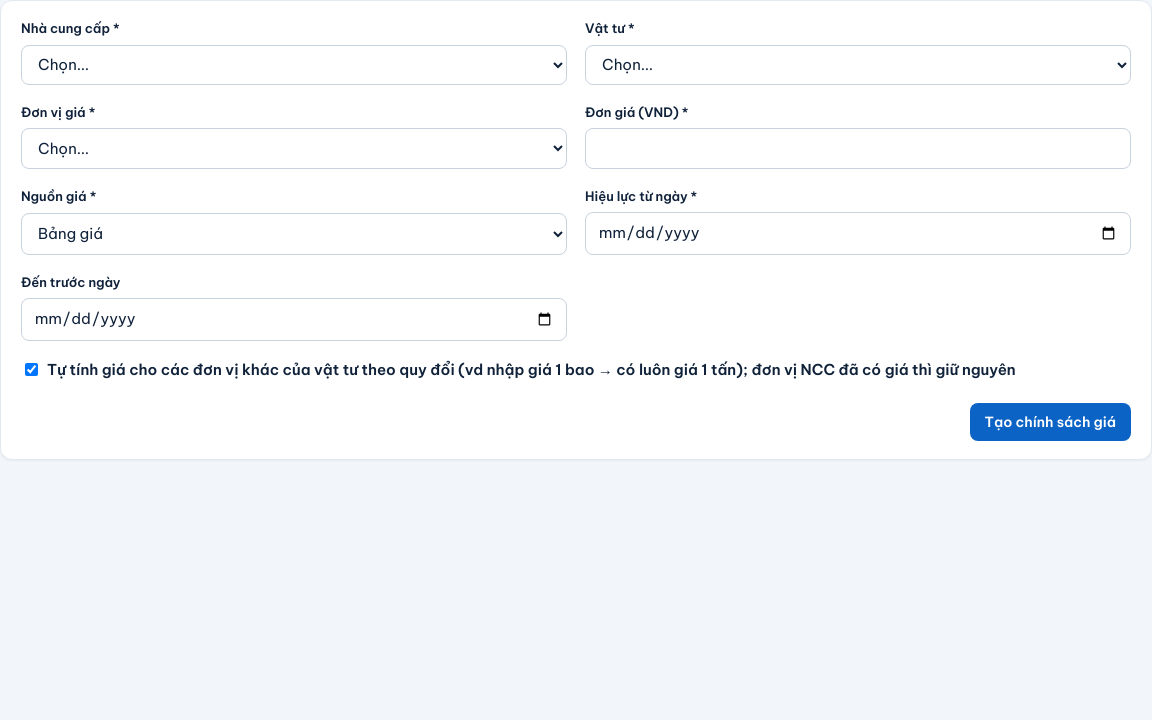
Test: binds purchase scope and preserves exact money and retry identity
Select "NCC QA" in the dropdown labelled "Nhà cung cấp *". click: (294, 64)
box: 21,44 -> 567,84
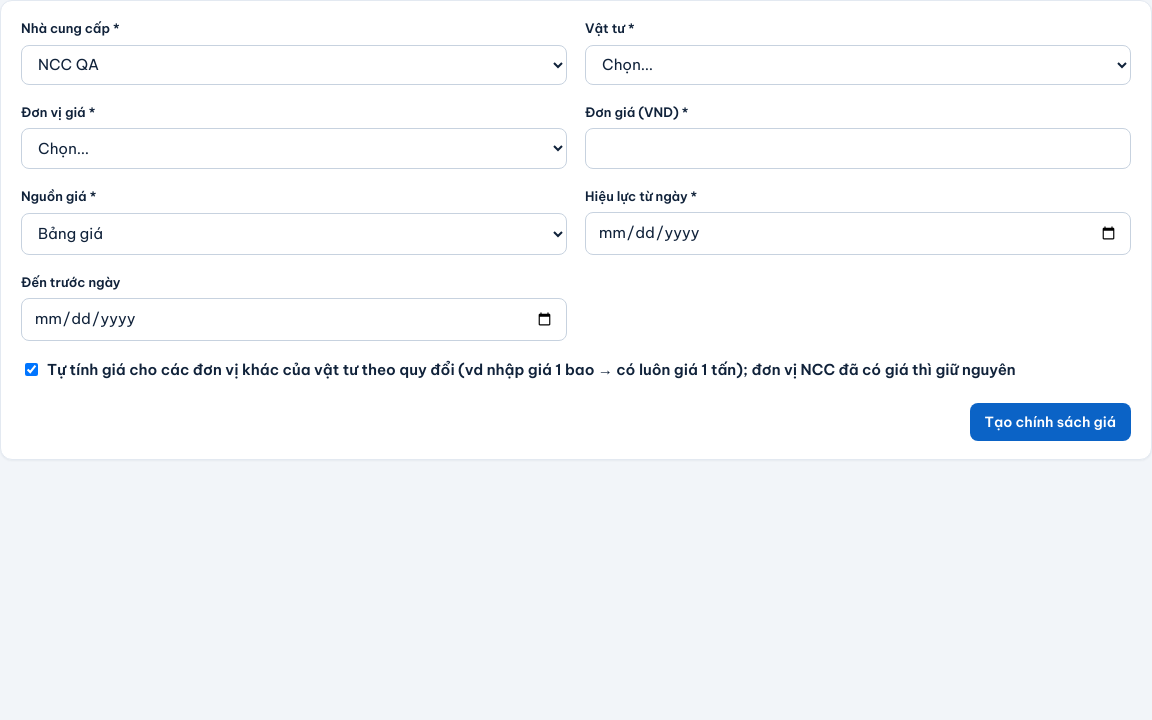
Select "Vật tư" in the dropdown labelled "Vật tư *". click: (858, 64)
box: 585,44 -> 1131,84
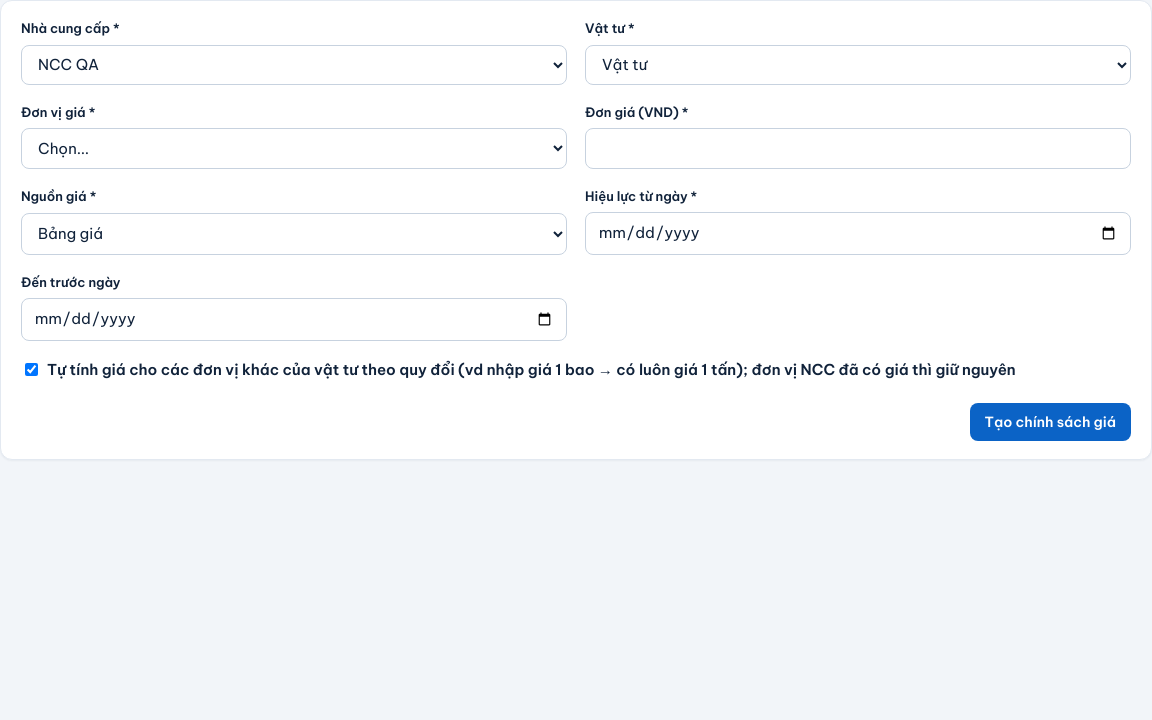
Select "Bao" in the dropdown labelled "Đơn vị giá *". click: (294, 148)
box: 21,128 -> 567,169
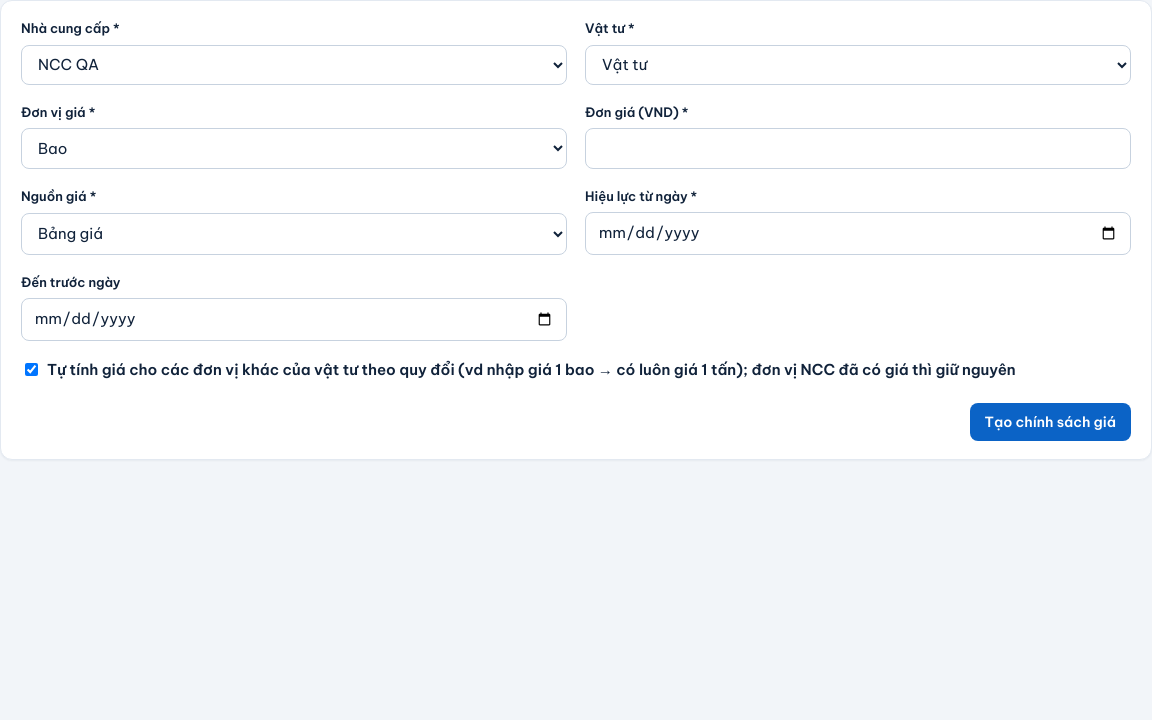
Type "9007199254740993" into the field labelled "Đơn giá (VND) *". click: (858, 148)
box: 585,128 -> 1131,168
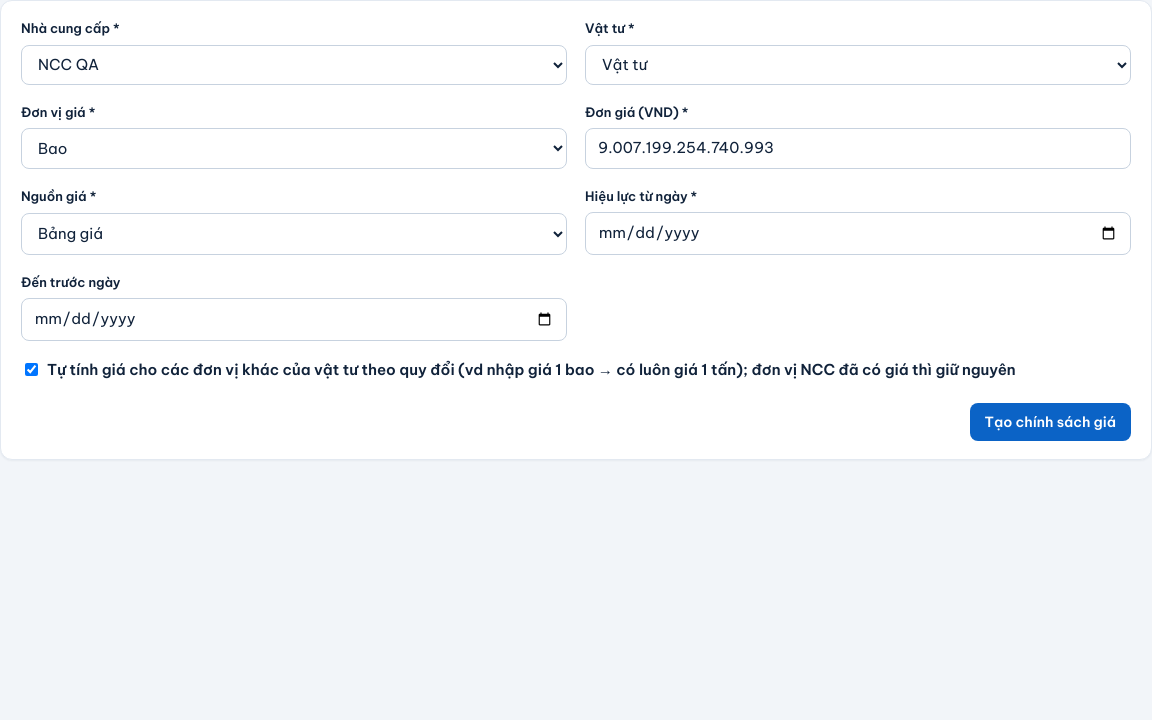
Submit the form named "Tạo chính sách giá"
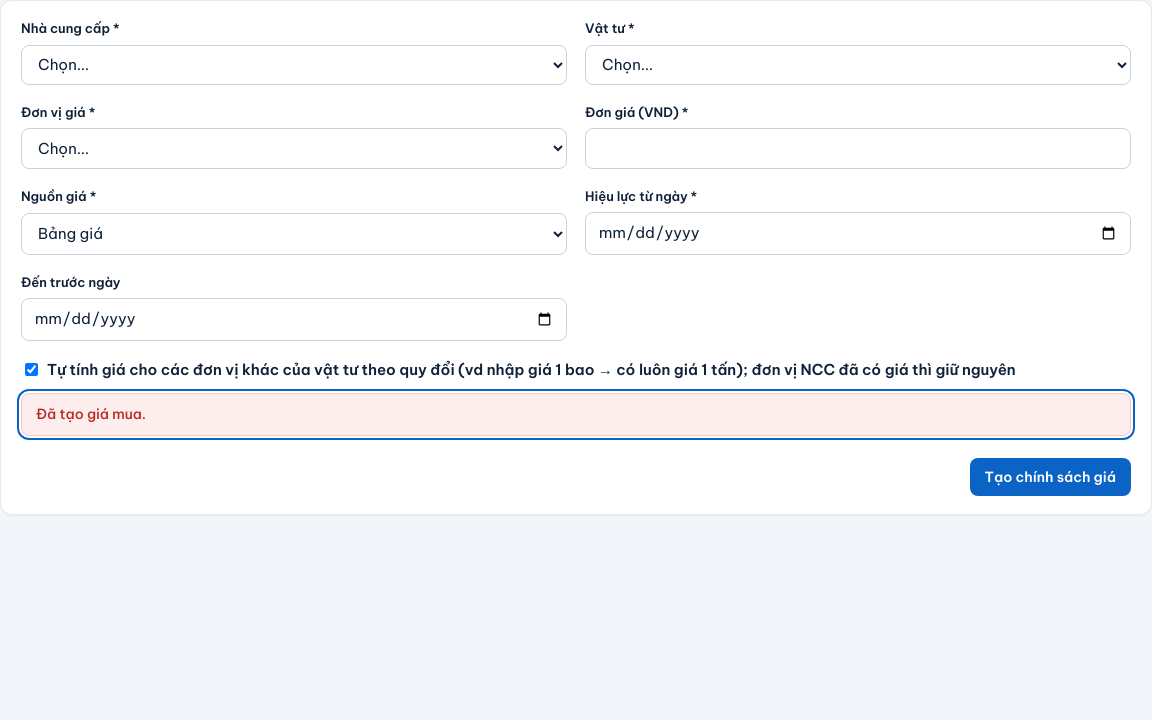
Expected: the text "Đã tạo giá mua." is shown, 21,393 -> 1131,436
